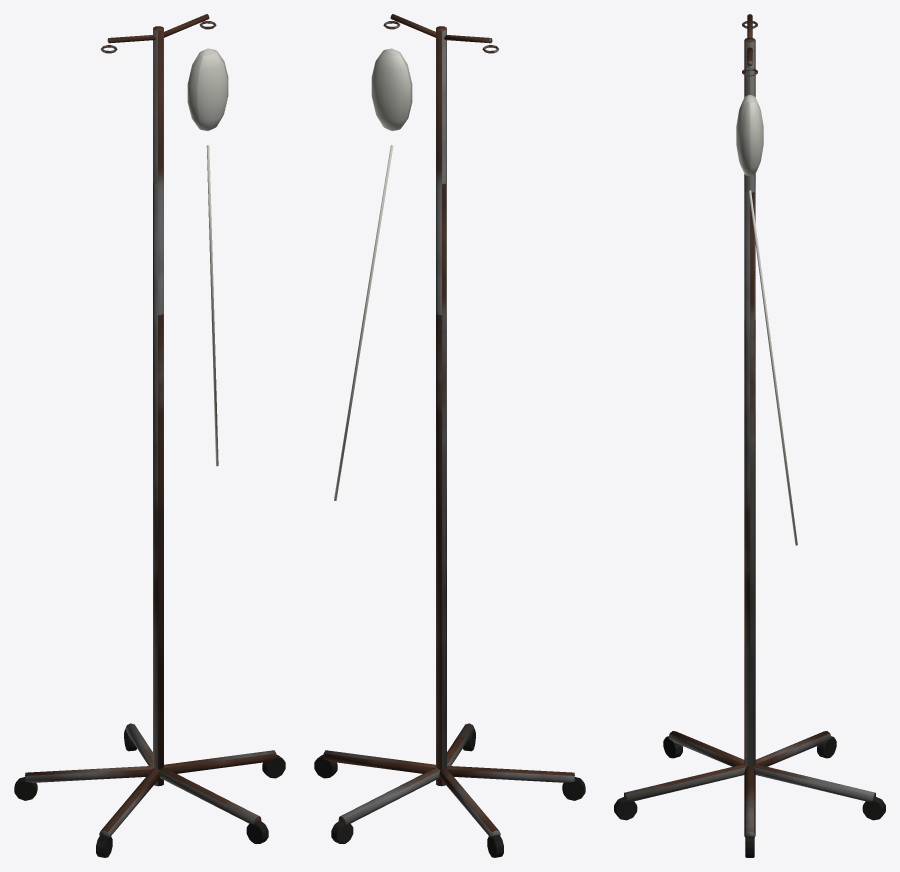
Rendered from H03_iv_drip_stand.glb.
3 views of the same model, side by side, from view 1: azimuth 30°, elevation 25°; view 2: azimuth 150°, elevation 25°; view 3: azimuth 270°, elevation 25° (orthographic).
Parts seen in each view (by area): view 1: H03_iv_drip_stand; view 2: H03_iv_drip_stand; view 3: H03_iv_drip_stand.
Part boxes in pixels (x1,y1,x2,y2): H03_iv_drip_stand: (14,14,285,857); H03_iv_drip_stand: (314,14,585,857); H03_iv_drip_stand: (614,14,885,857).
Bounding box in the file's own units: 0.5525 × 1.8 × 0.5804.
4 materials, 4 textured.
